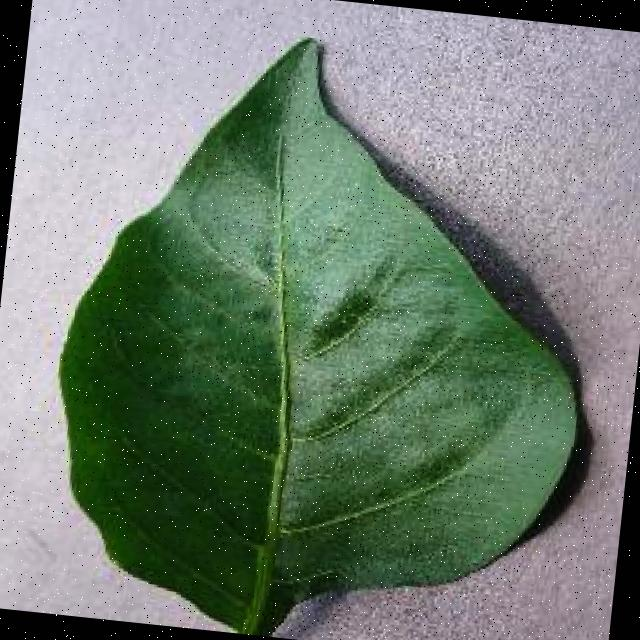Leaf: (5, 3, 640, 638)
